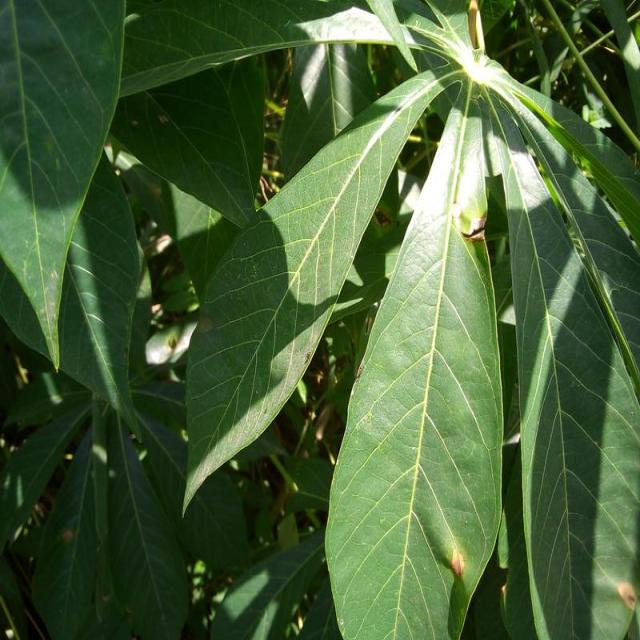cassava leaf: (180, 66, 447, 517), (323, 104, 505, 638), (493, 94, 639, 638), (0, 0, 125, 373)
